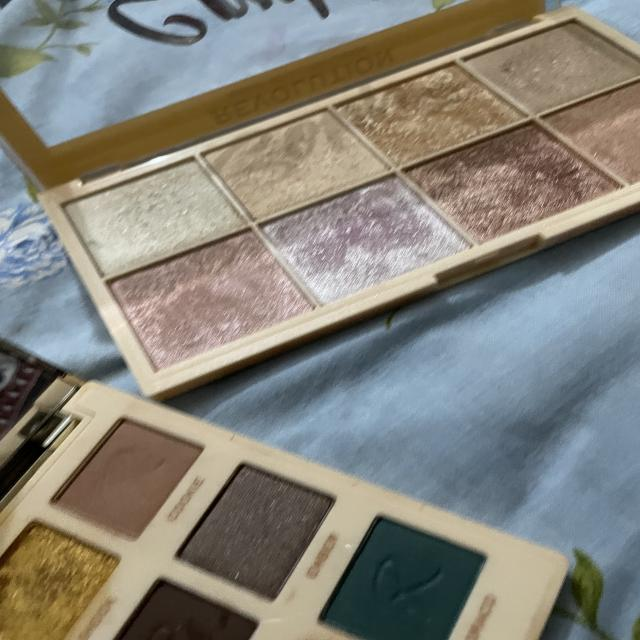highlighter: (22, 18, 640, 392)
